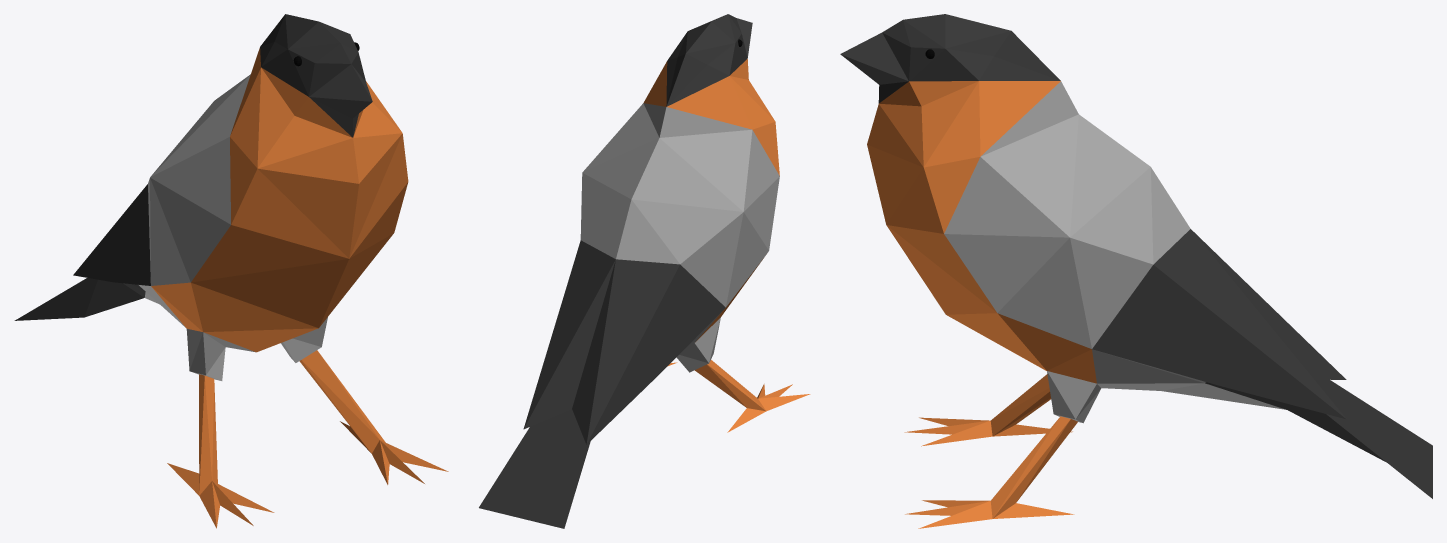
The model's file is bird.fbx.
The picture shows the model from 3 angles, left to right: view 1: azimuth 30°, elevation 25°; view 2: azimuth 150°, elevation 25°; view 3: azimuth 270°, elevation 25°; orthographic projection. The views are drawn at different scales.
Parts seen in each view (by area): view 1: bird; view 2: bird; view 3: bird.
Boxes of the visible parts, x1,y1,x2,y2 form: bird: (14,14,448,528); bird: (479,14,810,528); bird: (840,14,1432,528).
Size of the model in its own units: 7.27 by 13.98 by 16.35.
